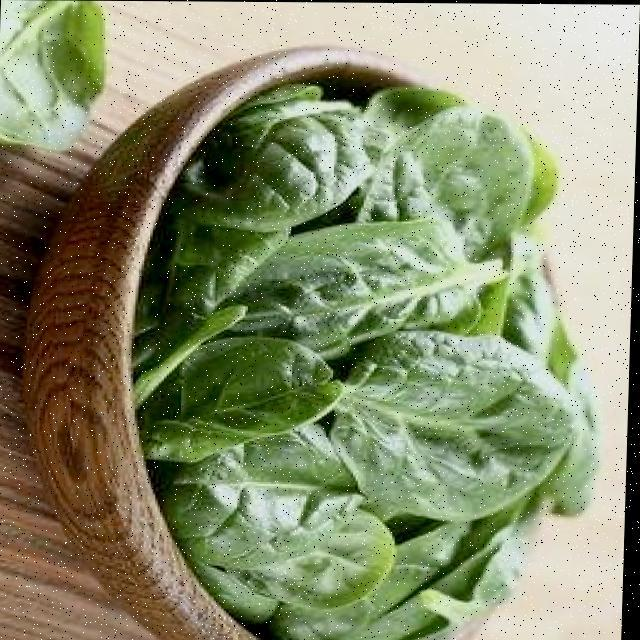Spinach: (123, 71, 618, 640), (0, 0, 146, 169)
